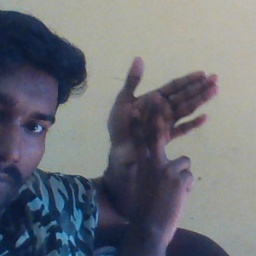N: (105, 52, 233, 208)
